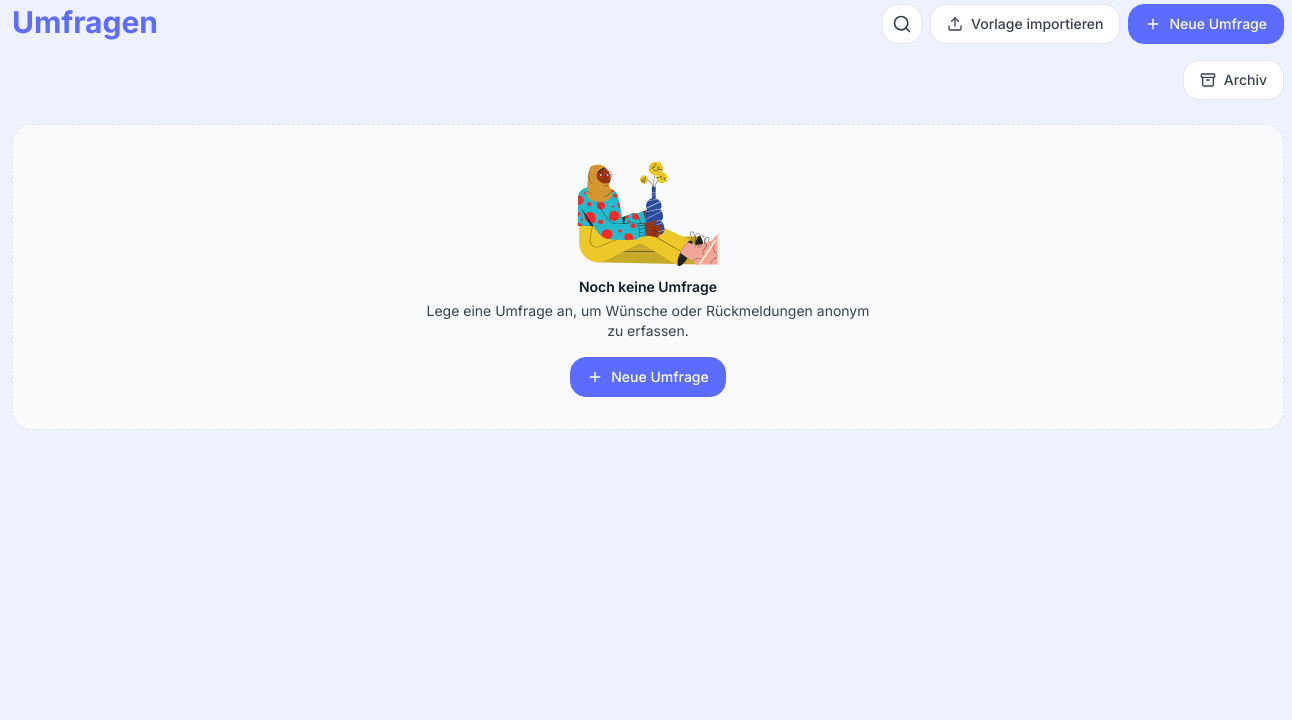
Scenario: Surveys archive navigation › keeps the archive open when other archived surveys remain
Click the button "Archiv" at (1233, 80), box [1183, 60, 1284, 100]
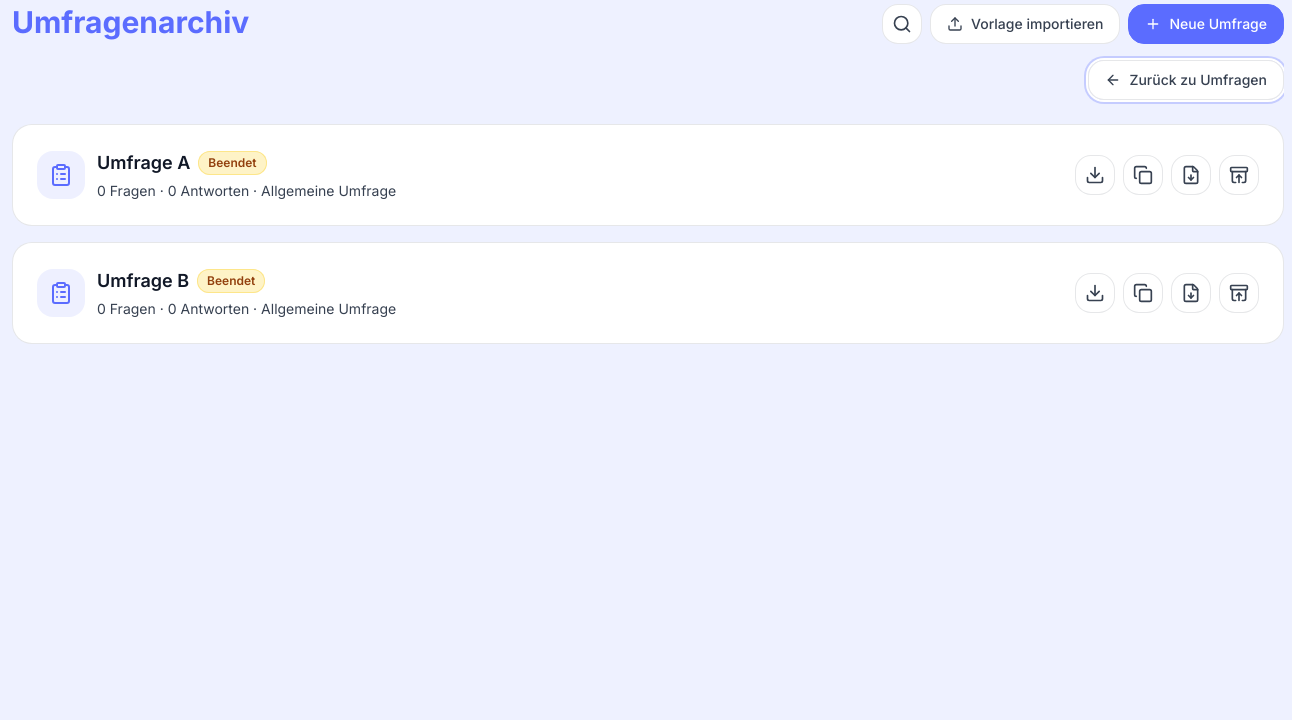
Click the button named "Wiederherstellen" in the row of "Umfrage A" at (1239, 175), box [1219, 155, 1259, 195]
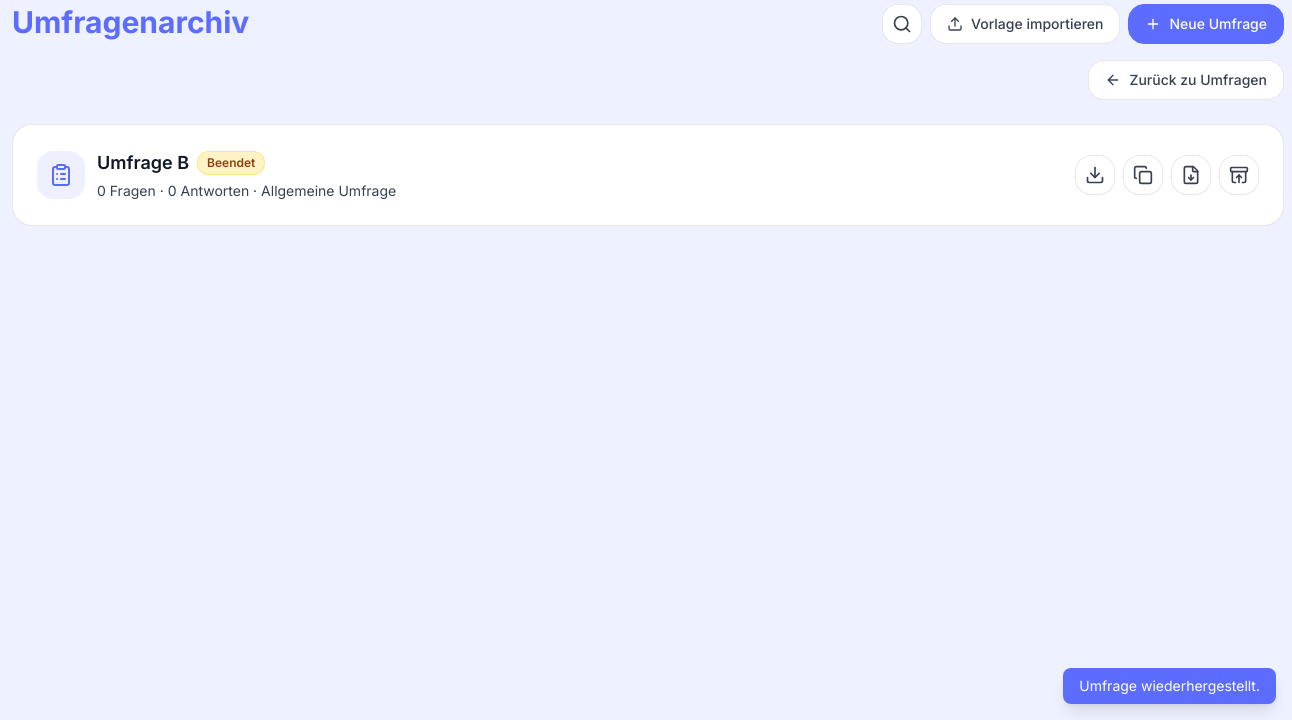
Now the heading "Umfragenarchiv" is shown, box [12, 4, 249, 40]
Now the button "Zurück zu Umfragen" is shown, box [1088, 60, 1284, 100]
Now the heading "Umfrage A" is gone
